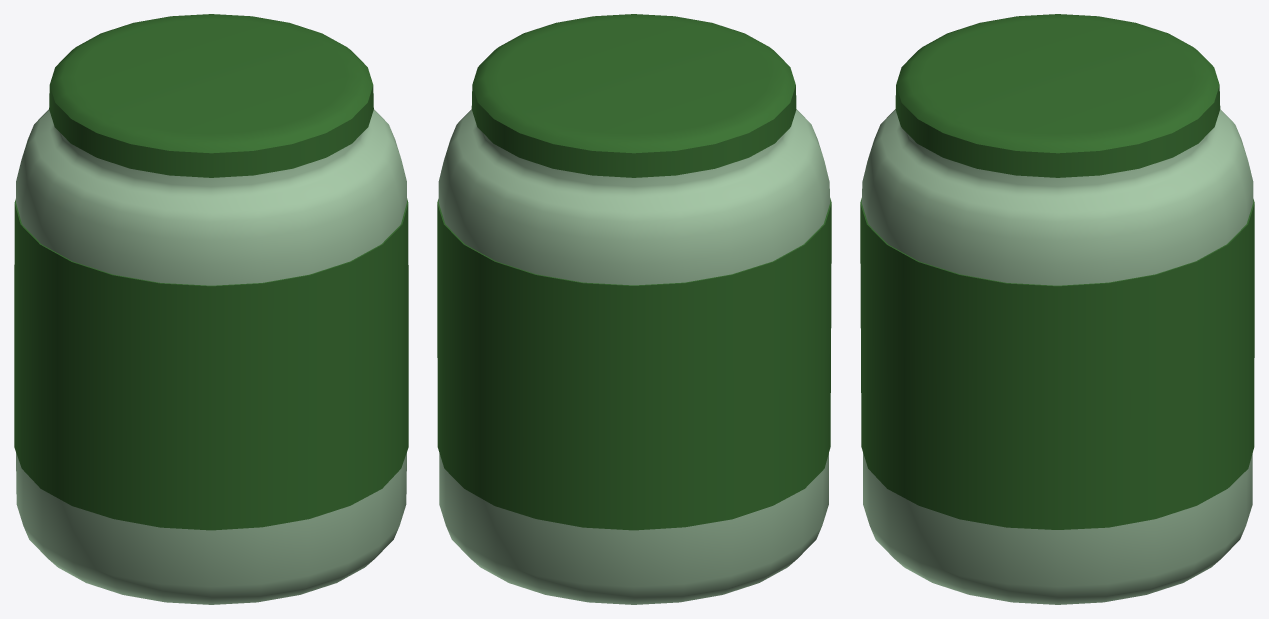
File: cucumber_bottle.fbx
3 views of the same model, side by side, from view 1: azimuth 30°, elevation 25°; view 2: azimuth 150°, elevation 25°; view 3: azimuth 270°, elevation 25° (orthographic).
Visible parts, largest first — view 1: cucumber_bottle; view 2: cucumber_bottle; view 3: cucumber_bottle.
Boxes of the visible parts, left/top/right/bottom form: cucumber_bottle: left=14, top=14, right=408, bottom=604; cucumber_bottle: left=437, top=14, right=831, bottom=604; cucumber_bottle: left=860, top=14, right=1254, bottom=604.
Bounding box in the file's own units: 9.55 × 12.25 × 9.54.
